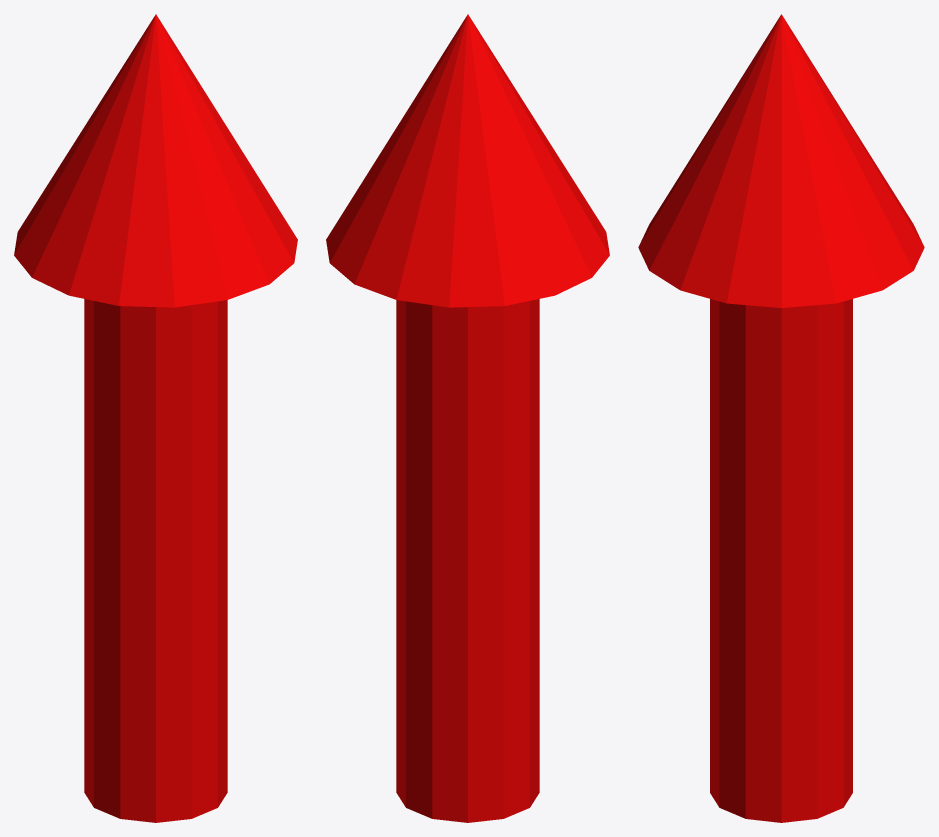
File: nil_link_mesh.dae
The picture shows the model from 3 angles, left to right: view 1: azimuth 30°, elevation 25°; view 2: azimuth 150°, elevation 25°; view 3: azimuth 270°, elevation 25°; orthographic projection.
Visible parts, largest first — view 1: nil_link (×2); view 2: nil_link (×2); view 3: nil_link (×2).
Boxes of the visible parts, x1,y1,x2,y2 form: nil_link (×2): (14, 14, 297, 822); nil_link (×2): (326, 14, 609, 822); nil_link (×2): (638, 14, 924, 822).
Bounding box in the file's own units: 0.0667 × 0.2 × 0.0667.
